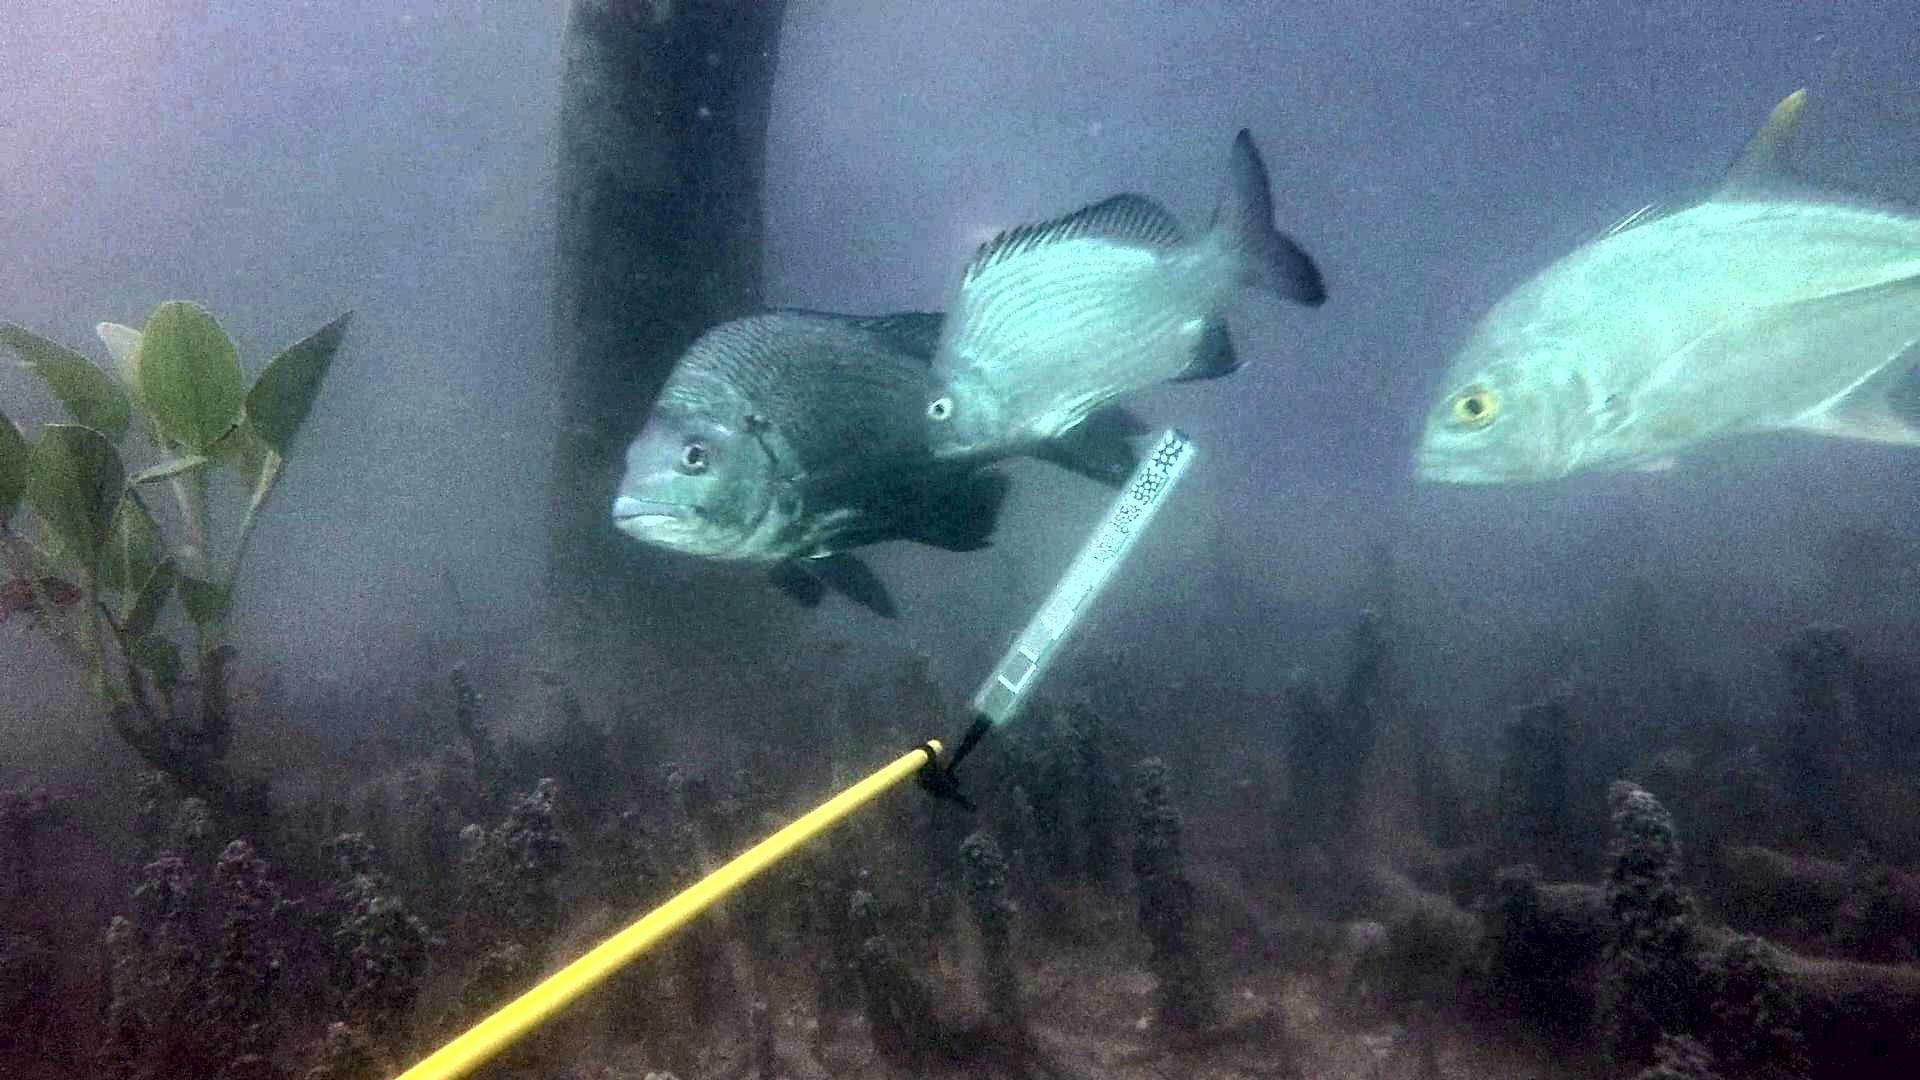acanthopagrus palmaris: (603, 303, 1163, 626), (901, 113, 1345, 473)
caranx: (1401, 77, 1920, 508)
